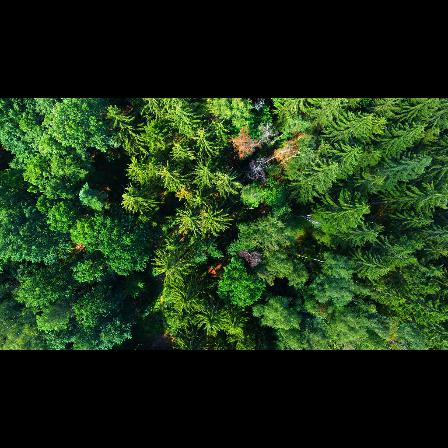Dead: (241, 157, 275, 183), (252, 121, 282, 149), (236, 249, 264, 267)
